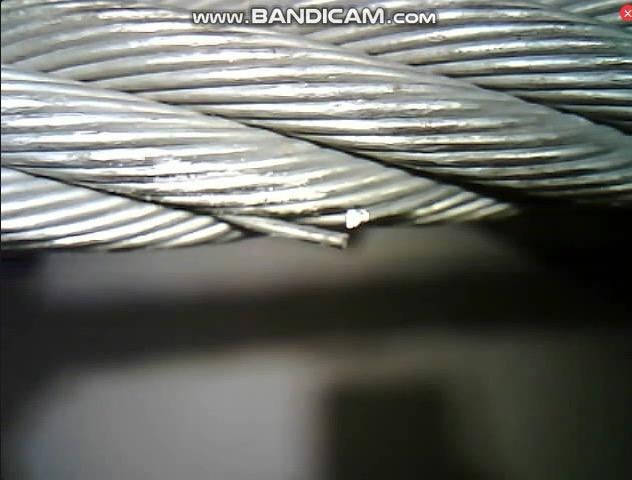break: (290, 193, 372, 260)
